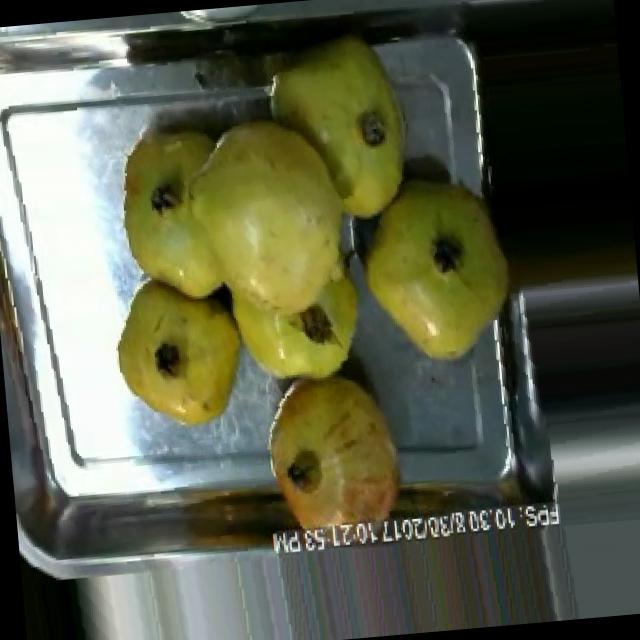fruit: (100, 97, 353, 328), (247, 22, 431, 248), (348, 164, 525, 381), (256, 360, 414, 556), (102, 277, 258, 445)
